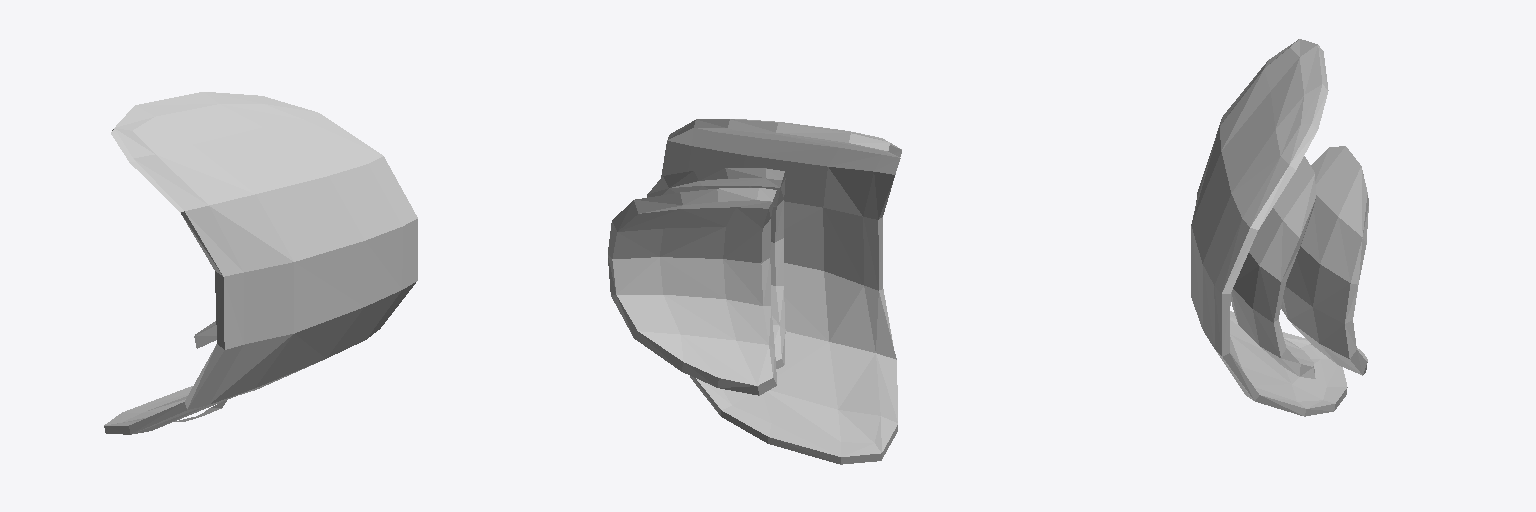
The model's file is FootballRightPD.obj.
3 views of the same model, side by side, from view 1: azimuth 30°, elevation 25°; view 2: azimuth 150°, elevation 25°; view 3: azimuth 270°, elevation 25° (orthographic).
Parts seen in each view (by area): view 1: Arms.002; view 2: Arms.002; view 3: Arms.002.
Boxes of the visible parts, <box> form: Arms.002: <box>104,92,417,434</box>; Arms.002: <box>608,119,901,464</box>; Arms.002: <box>1191,39,1368,416</box>.
Size of the model in its own units: 16.88 by 19.61 by 9.8.